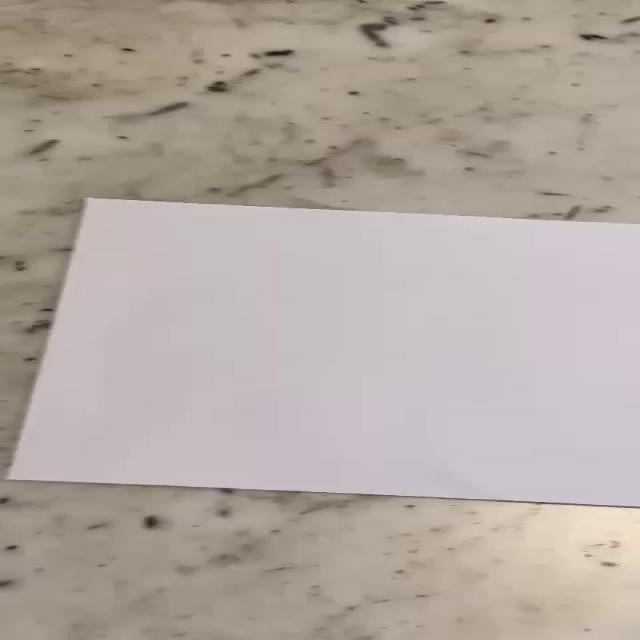road: (9, 198, 640, 507)
